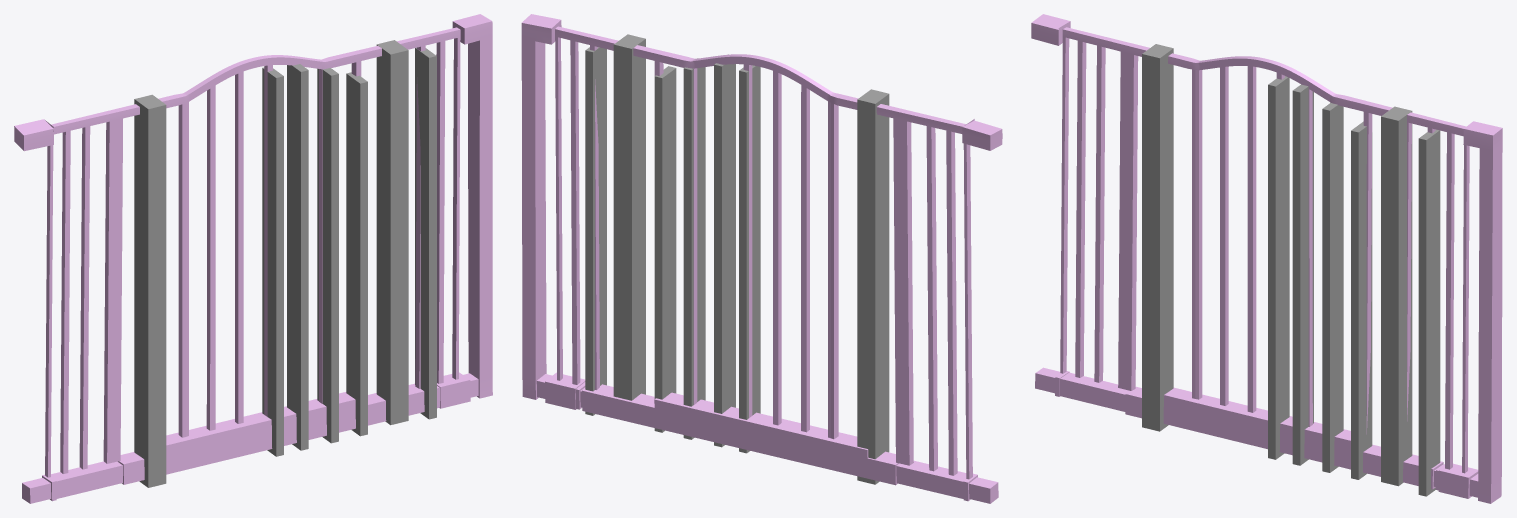
Rendered from baby_fence.fbx.
3 renders of one model, left to right at view 1: azimuth 30°, elevation 25°; view 2: azimuth 150°, elevation 25°; view 3: azimuth 330°, elevation 25°, orthographic. The views are drawn at different scales.
Parts seen in each view (by area): view 1: pCube10, pCube1, pCube2, pCube5, pCube8, pCube3, pCube7, pCube9; view 2: pCube10, pCube1, pCube2, pCube5, pCube8, pCube7, pCube3, pCube9; view 3: pCube10, pCube1, pCube2, pCube9, pCube3, pCube7, pCube5, pCube8.
Boxes of the visible parts, x1=… form: pCube10: x1=14, y1=14, x2=492, y2=503; pCube1: x1=134, y1=94, x2=166, y2=487; pCube2: x1=376, y1=40, x2=408, y2=425; pCube5: x1=287, y1=64, x2=308, y2=450; pCube8: x1=346, y1=72, x2=367, y2=436; pCube3: x1=262, y1=67, x2=283, y2=456; pCube7: x1=317, y1=68, x2=338, y2=443; pCube9: x1=415, y1=47, x2=436, y2=419; pCube10: x1=521, y1=14, x2=1002, y2=503; pCube1: x1=857, y1=89, x2=889, y2=484; pCube2: x1=613, y1=34, x2=645, y2=400; pCube5: x1=714, y1=54, x2=735, y2=447; pCube8: x1=654, y1=66, x2=676, y2=432; pCube7: x1=683, y1=58, x2=705, y2=439; pCube3: x1=739, y1=65, x2=760, y2=453; pCube9: x1=585, y1=47, x2=606, y2=415; pCube10: x1=1031, y1=14, x2=1502, y2=503; pCube1: x1=1142, y1=44, x2=1173, y2=431; pCube2: x1=1381, y1=106, x2=1412, y2=486; pCube9: x1=1418, y1=129, x2=1440, y2=496; pCube3: x1=1268, y1=76, x2=1289, y2=459; pCube7: x1=1322, y1=103, x2=1343, y2=472; pCube5: x1=1292, y1=84, x2=1313, y2=465; pCube8: x1=1351, y1=121, x2=1372, y2=479.
Bounding box in the file's own units: 7.37 × 5.91 × 0.461.
